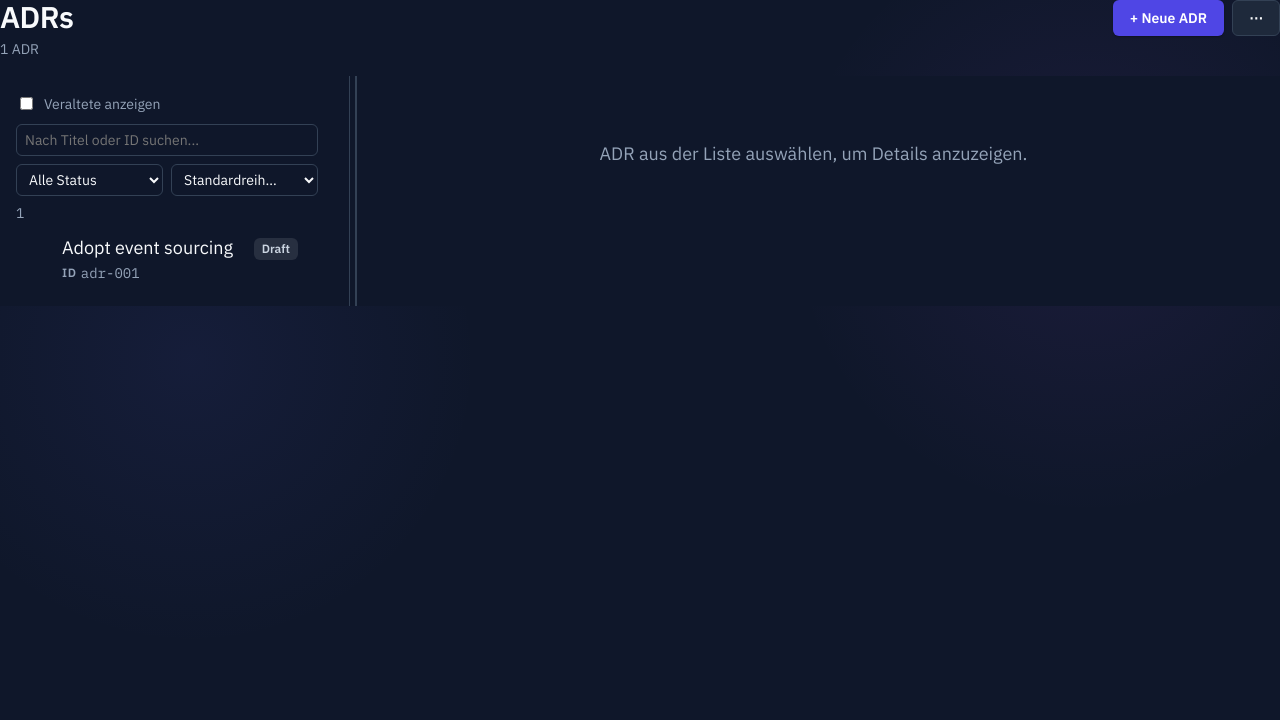
it: AdrEditors i18n — ADR title placeholder (#658) › shows an ADR-appropriate placeholder, translated to German
Click the button with test id "create-adr-btn" at [1168, 18], box [1113,0,1224,36]
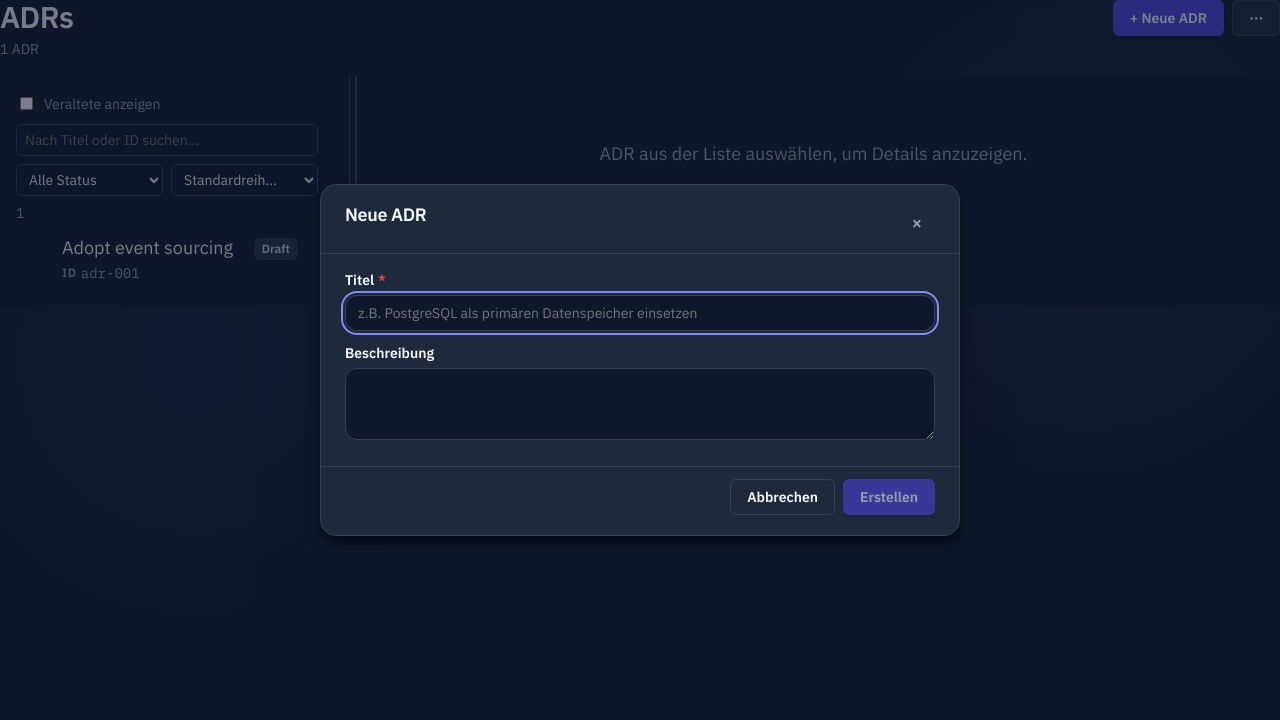
expect the field with placeholder "z.B. PostgreSQL als primären Datenspeicher einsetzen" is shown: met, box [345,295,935,331]
